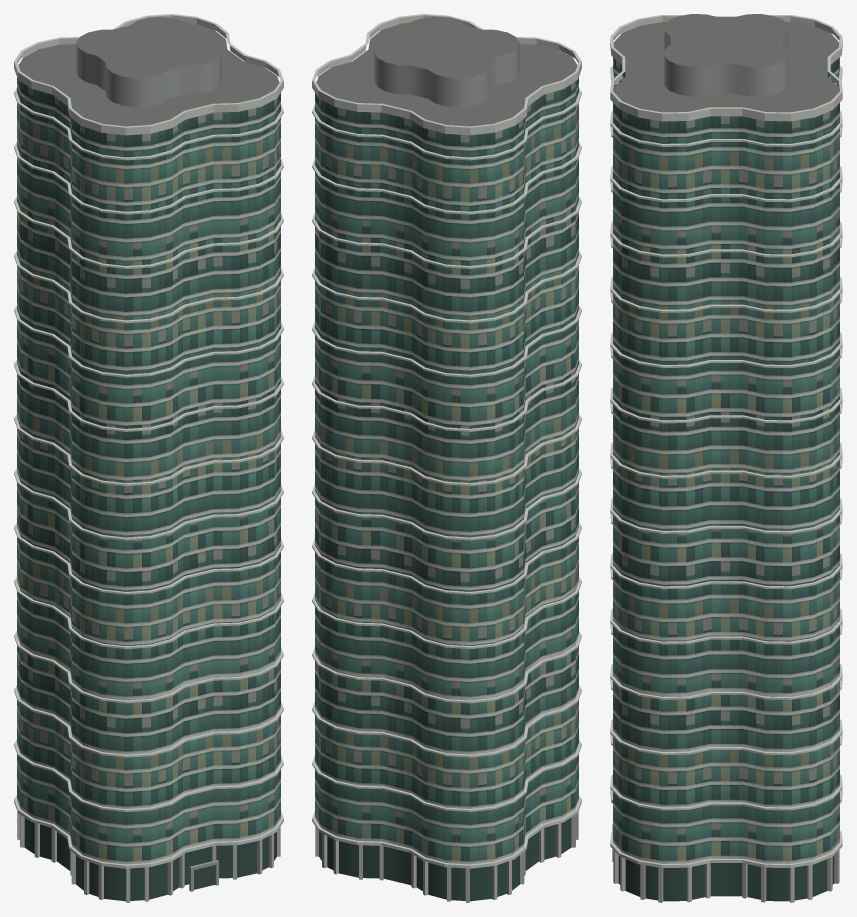
The model's file is infinity_towers.glb.
The picture shows the model from 3 angles, left to right: view 1: azimuth 30°, elevation 25°; view 2: azimuth 150°, elevation 25°; view 3: azimuth 270°, elevation 25°; orthographic projection.
Parts seen in each view (by area): view 1: infinity_towers; view 2: infinity_towers; view 3: infinity_towers.
Part boxes in pixels (bbox=[...]): infinity_towers: bbox=[14, 14, 283, 902]; infinity_towers: bbox=[312, 14, 581, 902]; infinity_towers: bbox=[610, 14, 842, 902].
Size of the model in its own units: 35.66 by 137 by 35.46.
2 materials, 2 textured.
